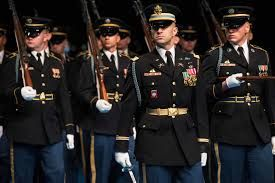gun: (76, 5, 111, 105), (4, 4, 36, 96), (197, 4, 234, 52), (124, 3, 159, 50), (214, 65, 271, 86)
uniform: (138, 50, 203, 178), (206, 46, 270, 173), (80, 53, 139, 175), (6, 57, 65, 172)
